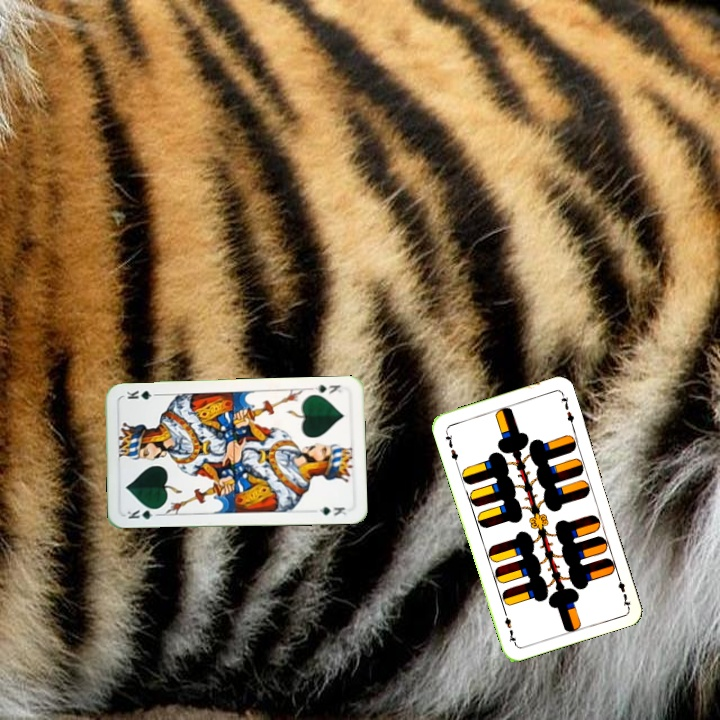E7: (441, 427, 461, 466), (613, 570, 633, 609)
GK: (123, 505, 163, 521), (311, 380, 343, 397)
